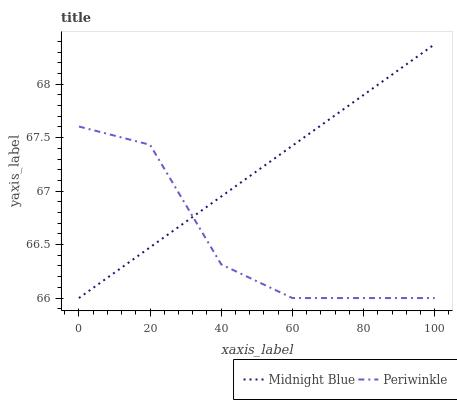axis: (66, 307, 457, 317), (55, 28, 67, 305)
legend: (234, 359, 457, 400)
line: (78, 44, 433, 300), (78, 125, 436, 301)
